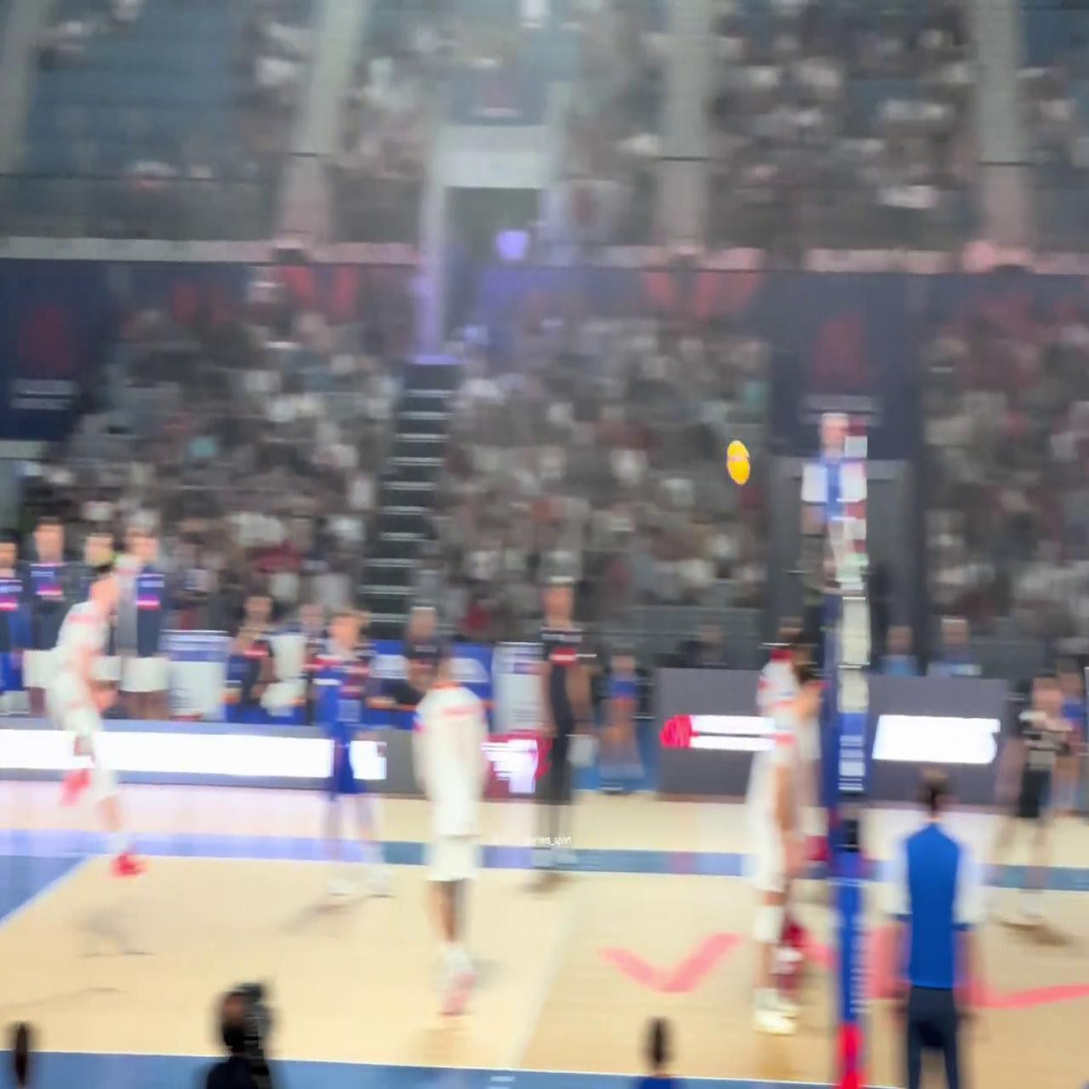ball: (726, 441, 751, 485)
